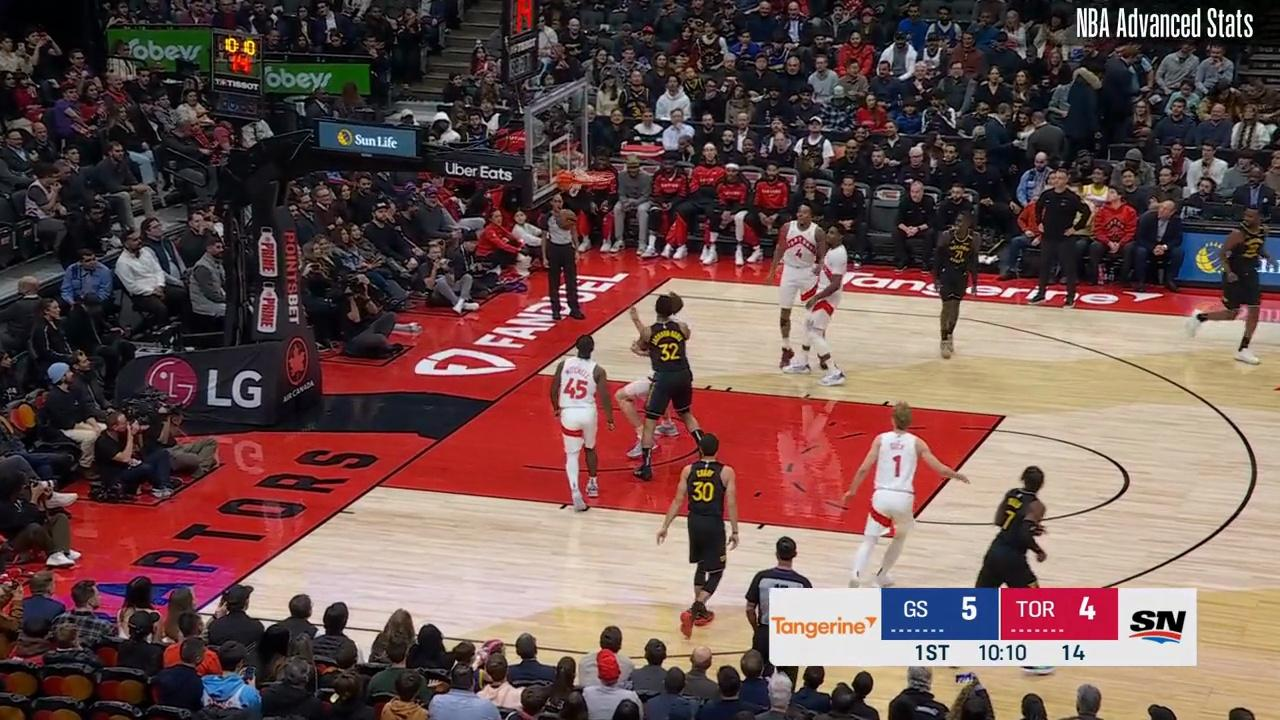basketball: (554, 206, 577, 233)
